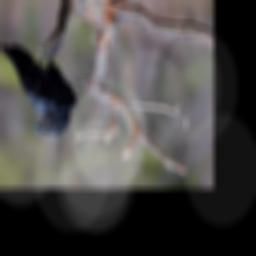Crow: (0, 40, 77, 136)
